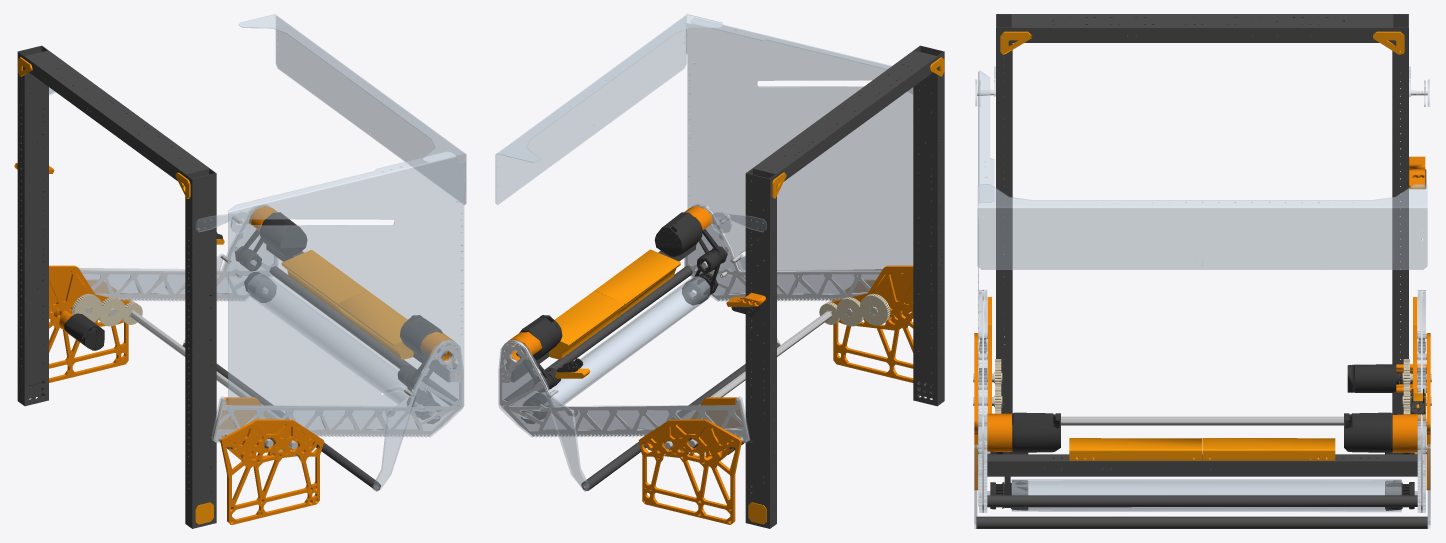
The model's file is 3928-intake.glb.
The picture shows the model from 3 angles, left to right: view 1: azimuth 30°, elevation 25°; view 2: azimuth 150°, elevation 25°; view 3: azimuth 270°, elevation 25°; orthographic projection. The views are drawn at different scales.
Parts seen in each view (by area): view 1: 26-IN-V2-38, 26-IN-V2-33, 26-IN-V2-04, 26-IN-V2-45, 26-IN-V2-41, Kraken X60 Back Cap (WCP)-Mirrored, 26-IN-V2-21, 30t Aluminum Spur Gear (20 DP, 1/2" Hex Bore), 26-IN-V2-27; view 2: 26-IN-V2-38, 26-IN-V2-33, 26-IN-V2-04, 26-IN-V2-45, 26-IN-V2-41, Kraken X60 Back Cap (WCP)-Mirrored, 30t Aluminum Spur Gear (20 DP, 1/2" Hex Bore), 26-IN-V2-21, 26-IN-V2-27; view 3: 26-IN-V2-38, 26-IN-V2-33, 26-IN-V2-41, Kraken X60 Back Cap (WCP)-Mirrored, 26-IN-V2-04, 26-IN-V2-21, 30t Aluminum Spur Gear (20 DP, 1/2" Hex Bore), 26-IN-V2-45.
Boxes of the visible parts, x1,y1,x2,y2 form: 26-IN-V2-38: (49,14,466,491); 26-IN-V2-33: (17,45,457,528); 26-IN-V2-04: (14,162,456,524); 26-IN-V2-45: (80,204,462,441); 26-IN-V2-41: (18,57,413,524); Kraken X60 Back Cap (WCP)-Mirrored: (64,212,445,423); 26-IN-V2-21: (85,254,435,456); 30t Aluminum Spur Gear (20 DP, 1/2" Hex Bore): (72,293,308,451); 26-IN-V2-27: (238,229,442,415); 26-IN-V2-38: (495,14,913,491); 26-IN-V2-33: (504,45,944,528); 26-IN-V2-04: (505,206,913,524); 26-IN-V2-45: (499,204,882,441); 26-IN-V2-41: (549,57,944,524); Kraken X60 Back Cap (WCP)-Mirrored: (516,212,745,454); 30t Aluminum Spur Gear (20 DP, 1/2" Hex Bore): (671,293,890,451); 26-IN-V2-21: (526,254,876,455); 26-IN-V2-27: (519,229,724,388); 26-IN-V2-38: (974,66,1430,528); 26-IN-V2-33: (976,14,1427,528); 26-IN-V2-41: (1000,31,1425,460); Kraken X60 Back Cap (WCP)-Mirrored: (990,364,1414,510); 26-IN-V2-04: (974,156,1430,490); 26-IN-V2-21: (973,333,1431,495); 30t Aluminum Spur Gear (20 DP, 1/2" Hex Bore): (994,359,1410,414); 26-IN-V2-45: (982,289,1422,512).
Bounding box in the file's own units: 0.5604 × 0.6985 × 0.7017.
